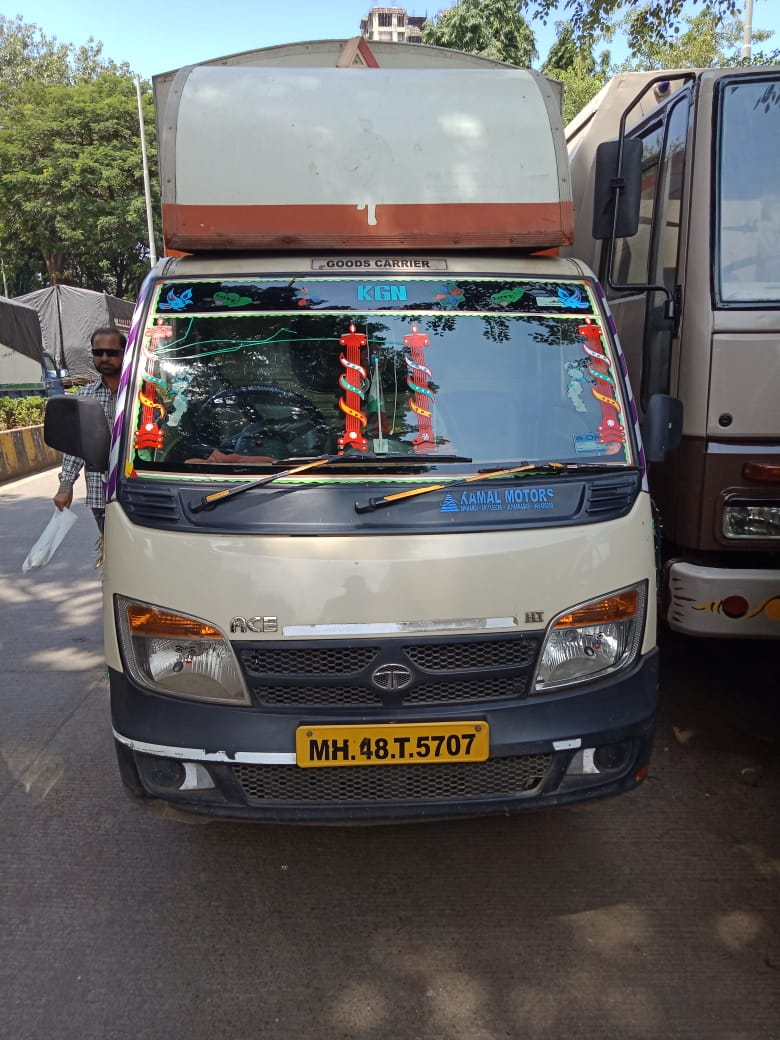numberplate: (296, 718, 491, 777)
